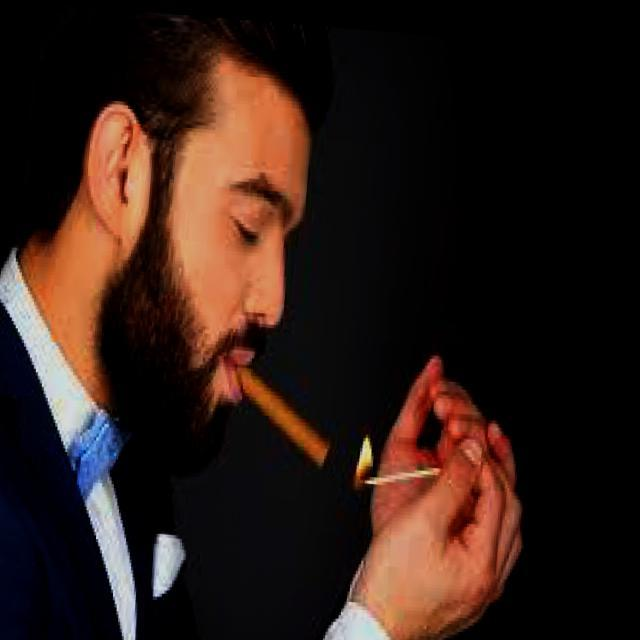Fire: (348, 419, 387, 488)
